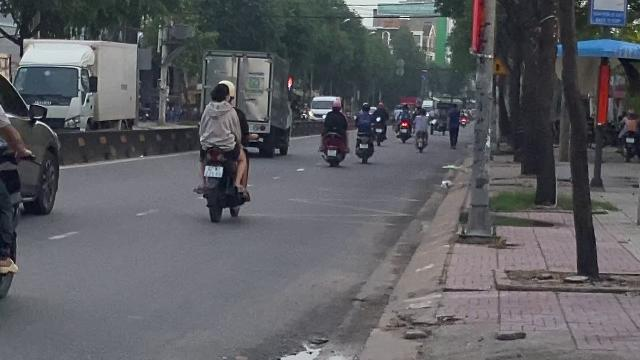licenseplate: (204, 166, 222, 176)
motorcyclist: (191, 80, 253, 221)
nohelmet: (209, 82, 233, 105)
